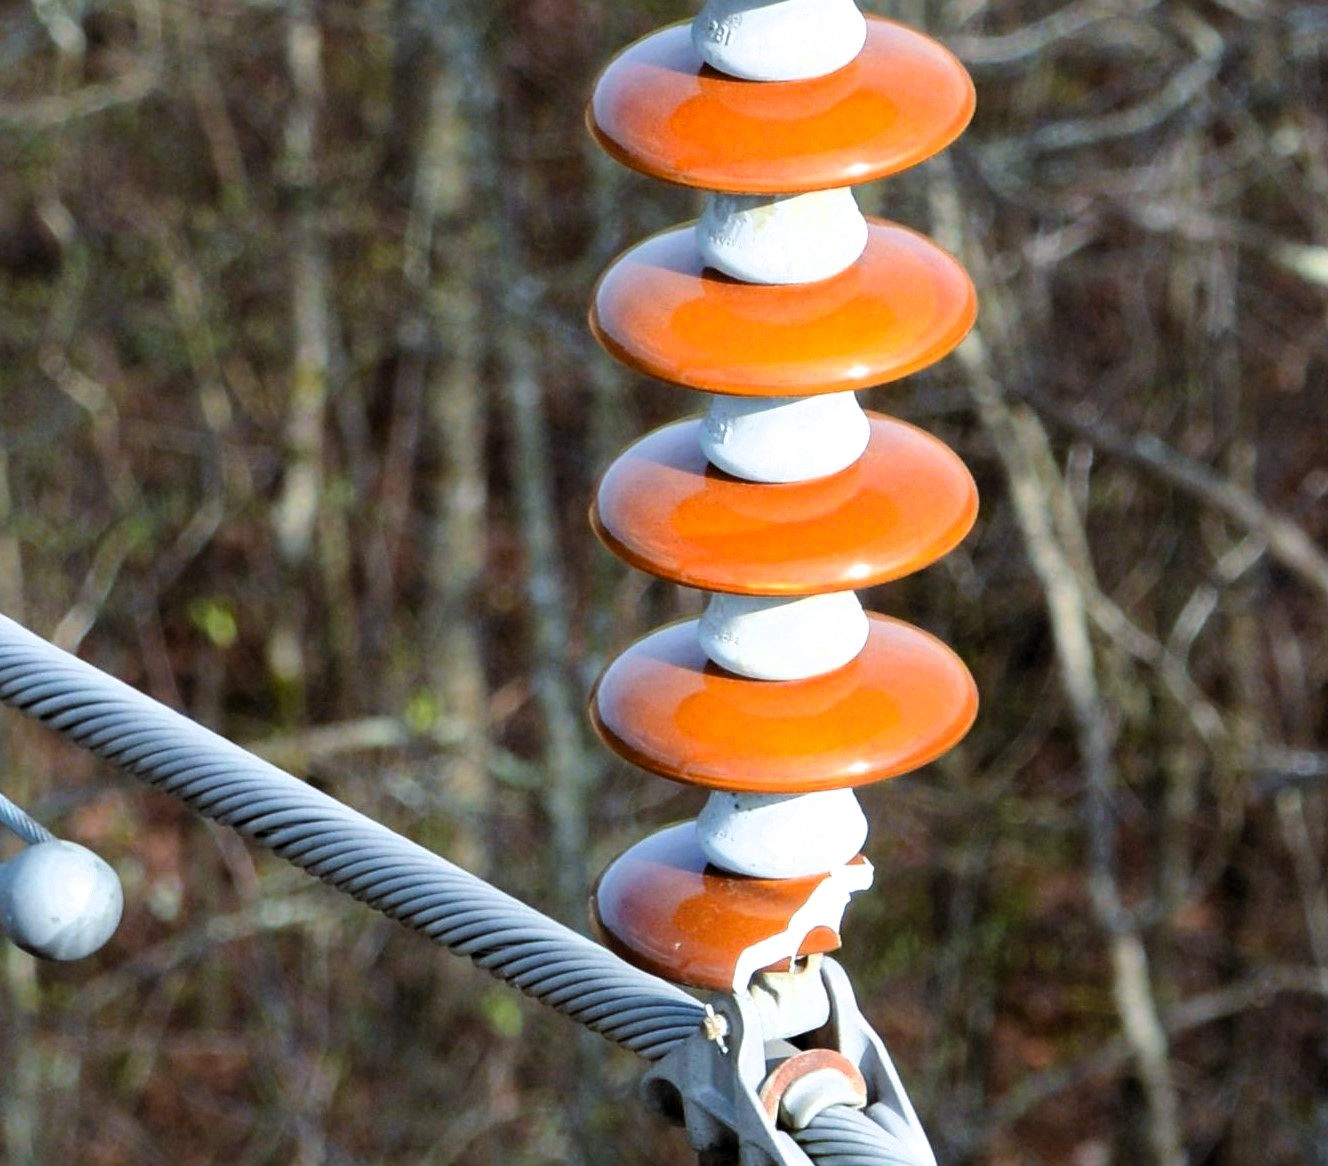insulator breakage: (587, 819, 889, 1001)
